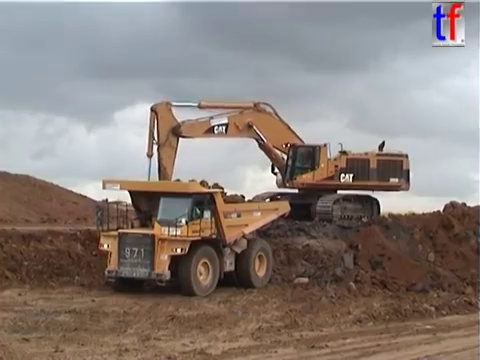excavator: (141, 98, 413, 231)
truck: (93, 177, 293, 299)
